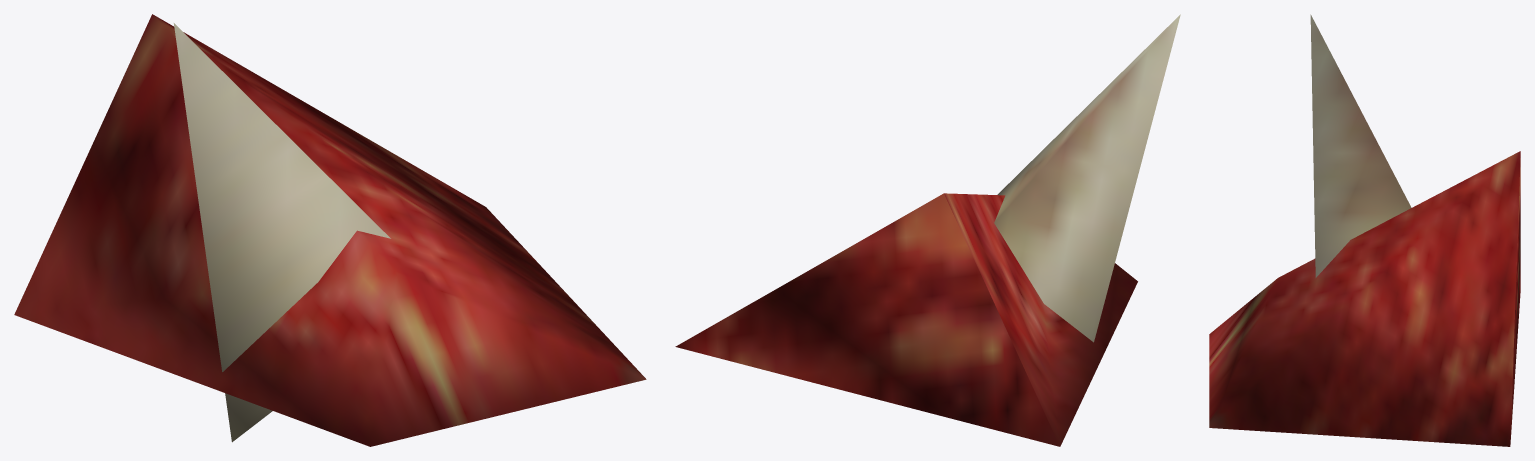
The model's file is Camp03_c.FBX.
3 renders of one model, left to right at view 1: azimuth 30°, elevation 25°; view 2: azimuth 150°, elevation 25°; view 3: azimuth 270°, elevation 25°, orthographic. The views are drawn at different scales.
Parts seen in each view (by area): view 1: Camp03_c; view 2: Camp03_c; view 3: Camp03_c.
Part boxes in pixels (left/top/right/bottom): Camp03_c: left=14, top=14, right=646, bottom=446; Camp03_c: left=675, top=14, right=1180, bottom=446; Camp03_c: left=1209, top=14, right=1520, bottom=446.
Size of the model in its own units: 13.9 by 13.33 by 11.63.
